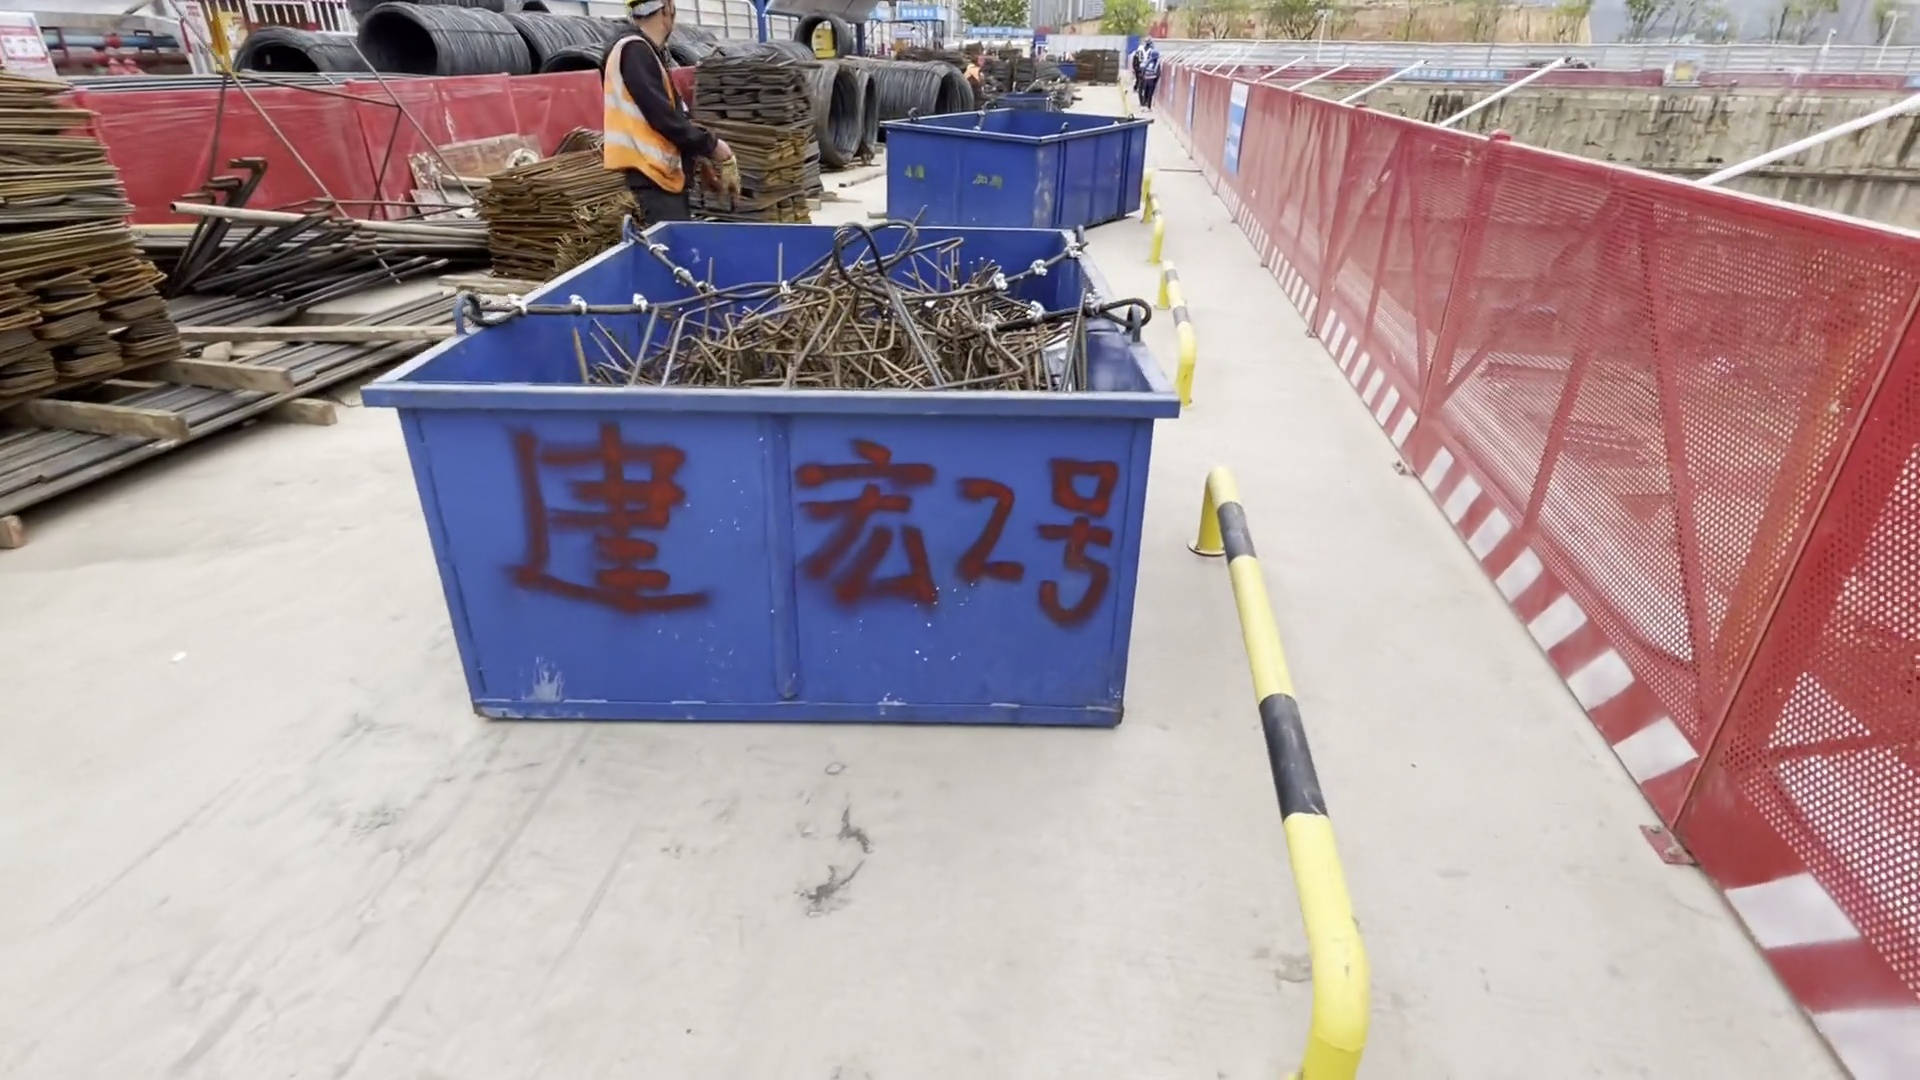helmet: (1149, 52, 1161, 61)
person: (603, 1, 740, 236), (1138, 49, 1162, 112)
vest: (598, 35, 695, 195), (1143, 63, 1160, 81)
